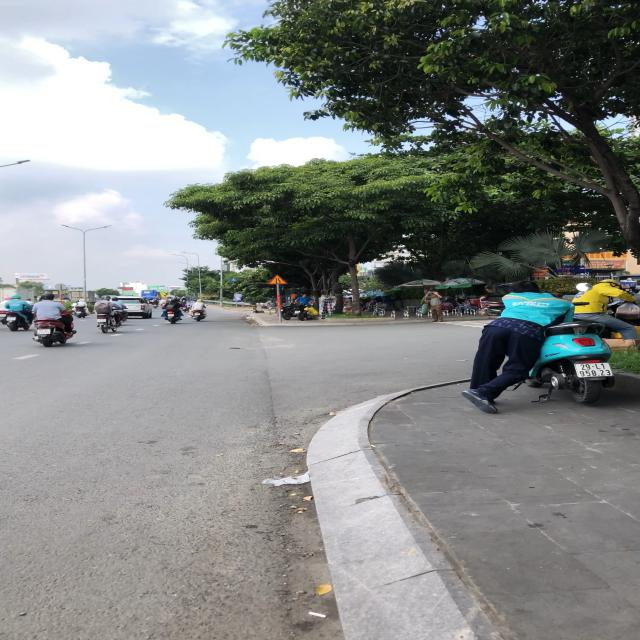Bien bao duong bi thu hep: (267, 274, 290, 286)
